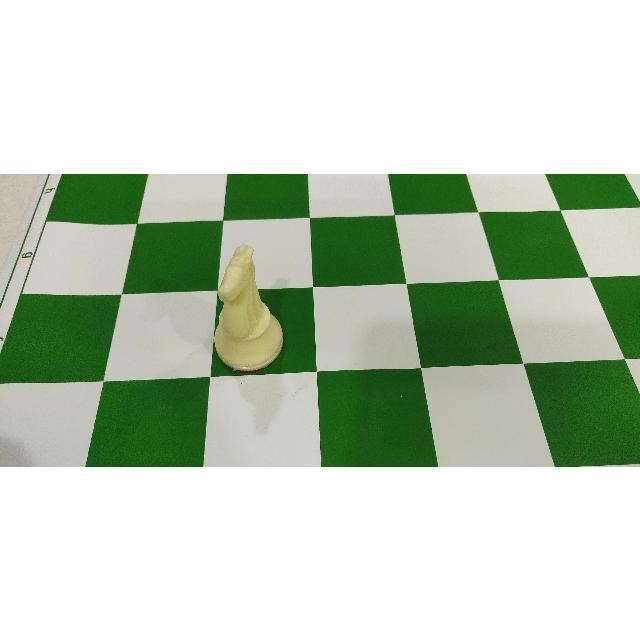white-knight: (214, 242, 284, 371)
